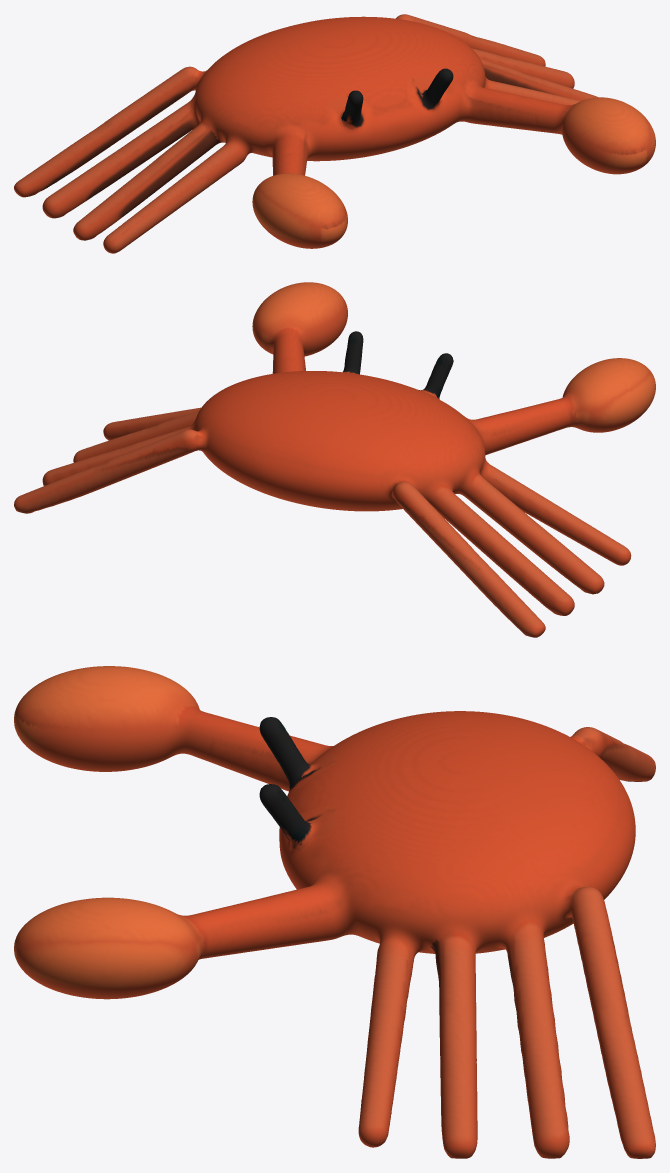
3 renders of one model, top to bottom at view 1: azimuth 30°, elevation 25°; view 2: azimuth 150°, elevation 25°; view 3: azimuth 270°, elevation 25°, orthographic. The views are drawn at different scales.
Visible parts, largest first — view 1: animal; view 2: animal; view 3: animal.
Boxes of the visible parts, box(x1,y1,x2,y2) form: animal: box(14, 14, 655, 253); animal: box(14, 282, 655, 637); animal: box(14, 666, 655, 1158).
Bounding box in the file's own units: 0.2912 × 0.074 × 0.201.
Materials: 1 (1 with a texture image).
